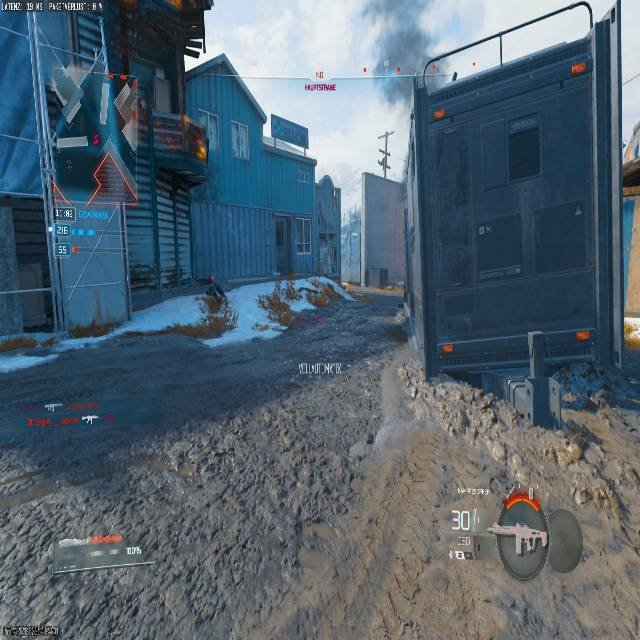player: (258, 275, 364, 332)
